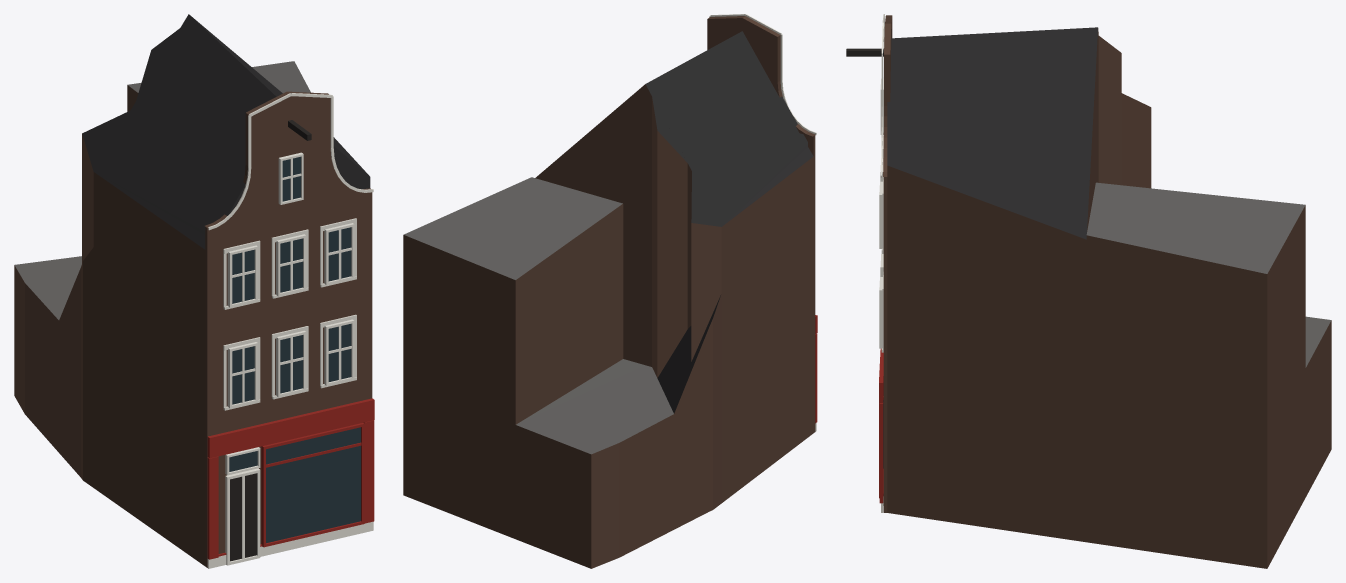
3 renders of one model, left to right at view 1: azimuth 30°, elevation 25°; view 2: azimuth 150°, elevation 25°; view 3: azimuth 270°, elevation 25°, orthographic. The views are drawn at different scales.
Parts seen in each view (by area): view 1: spec-0363100012172012; view 2: spec-0363100012172012; view 3: spec-0363100012172012.
Boxes of the visible parts, <box> form: spec-0363100012172012: <box>14,14,374,568</box>; spec-0363100012172012: <box>403,14,817,568</box>; spec-0363100012172012: <box>846,14,1331,568</box>.
Bounding box in the file's own units: 9.06 × 13.97 × 13.62.
